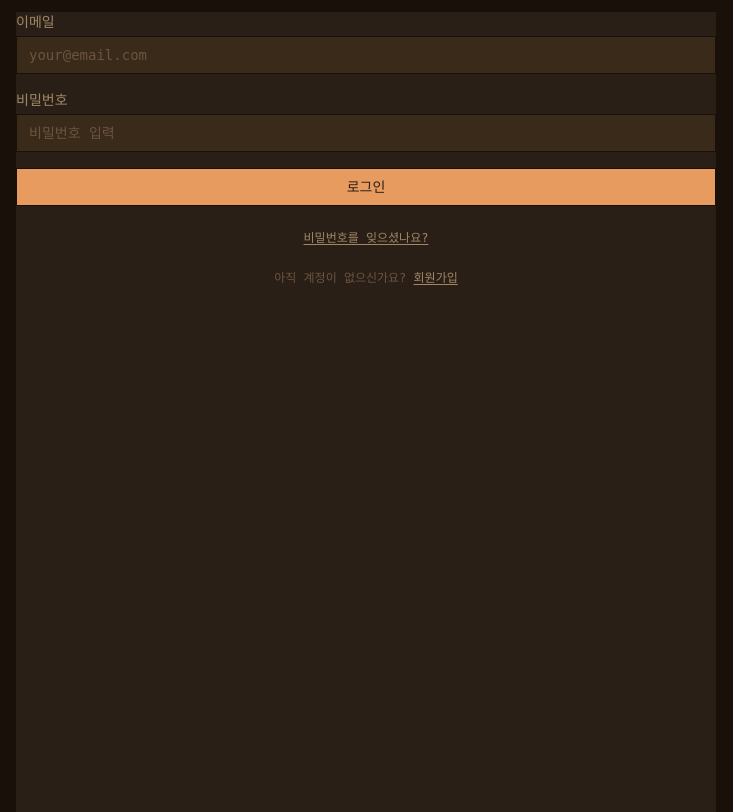
LoginForm › 잘못된 자격증명 에러 시 에러 메시지를 표시한다
Type "user@example.com" into the field labelled "이메일" at x=366, y=55, box x1=16 y1=36 x2=716 y2=74
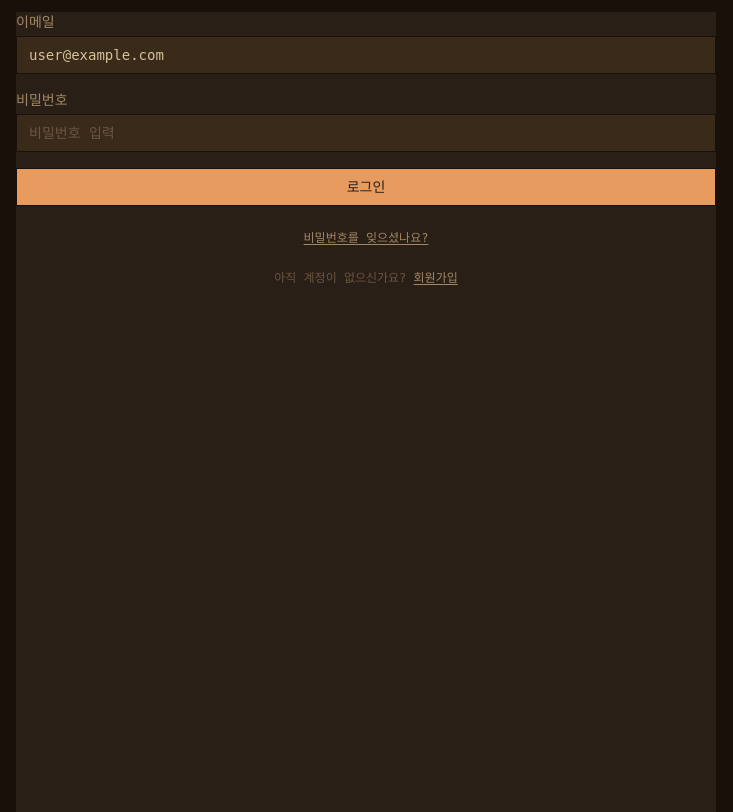
Type "WrongPass1" into the password field labelled "비밀번호" at x=366, y=133, box x1=16 y1=114 x2=716 y2=152
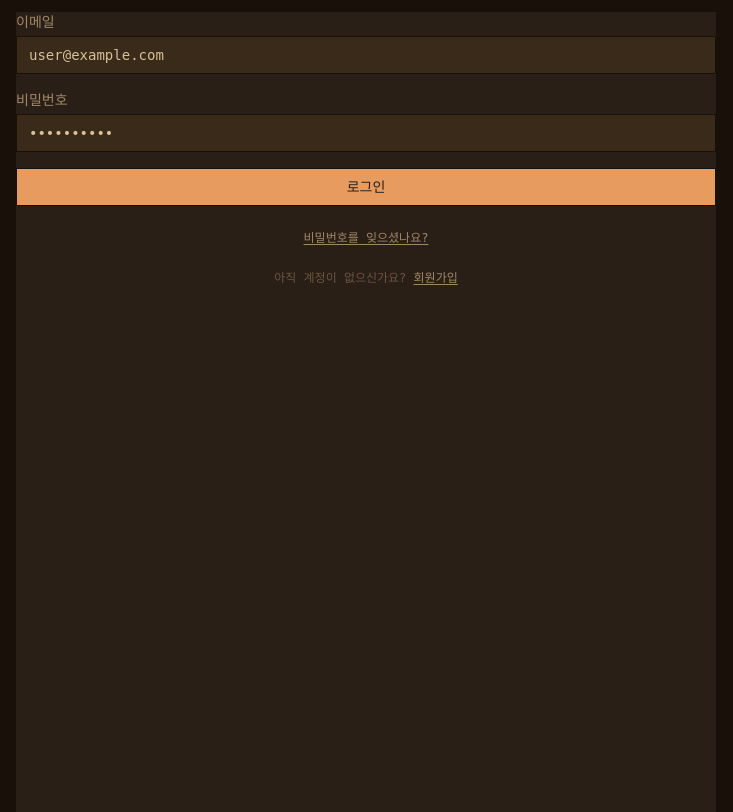
Click the button "로그인" at x=366, y=187, box x1=16 y1=168 x2=716 y2=206
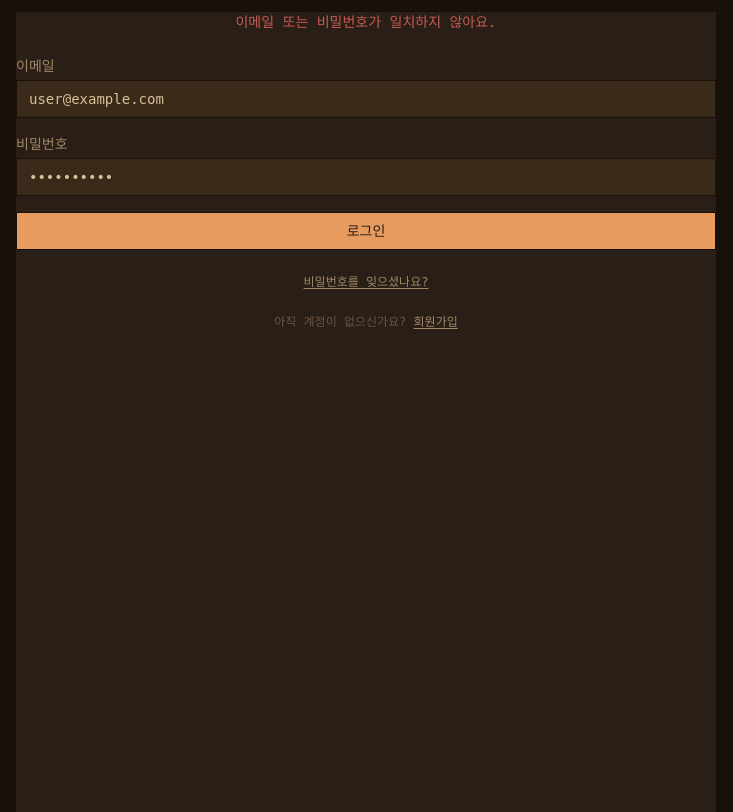
expect the text "이메일 또는 비밀번호가 일치하지 않아요." is shown: met, box x1=235 y1=14 x2=496 y2=30
